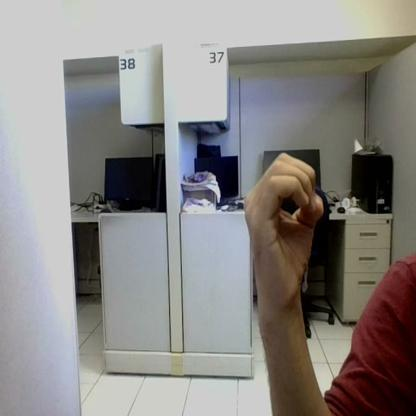O: (245, 154, 323, 278)
